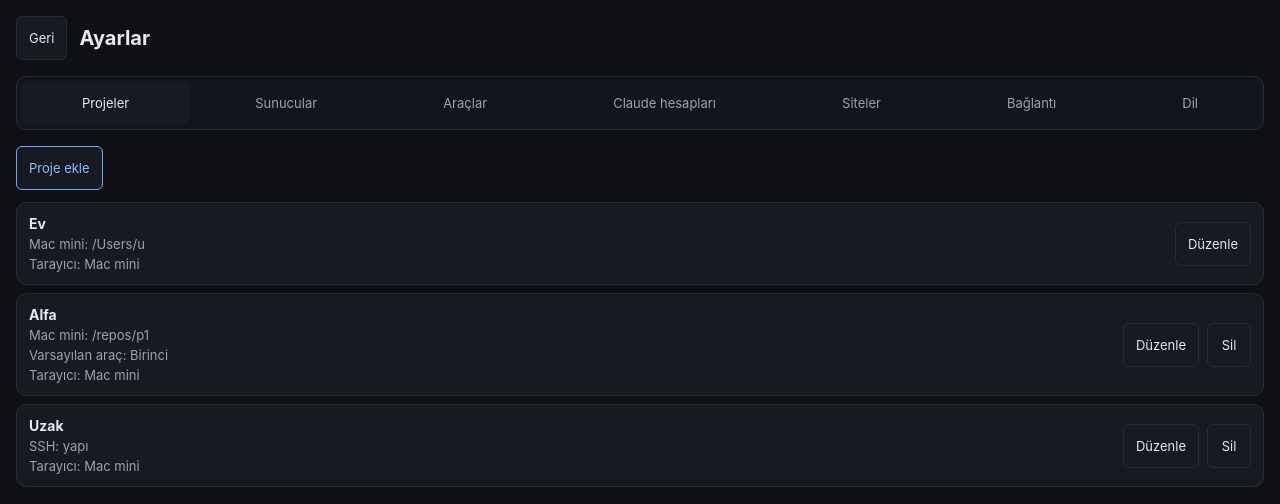
Test: Settings: Projeler › delete asks for confirmation and shows the engine reason verbatim
Click the button with aria-label "Sil: Alfa" at (1229, 344), box [1207,322,1251,366]
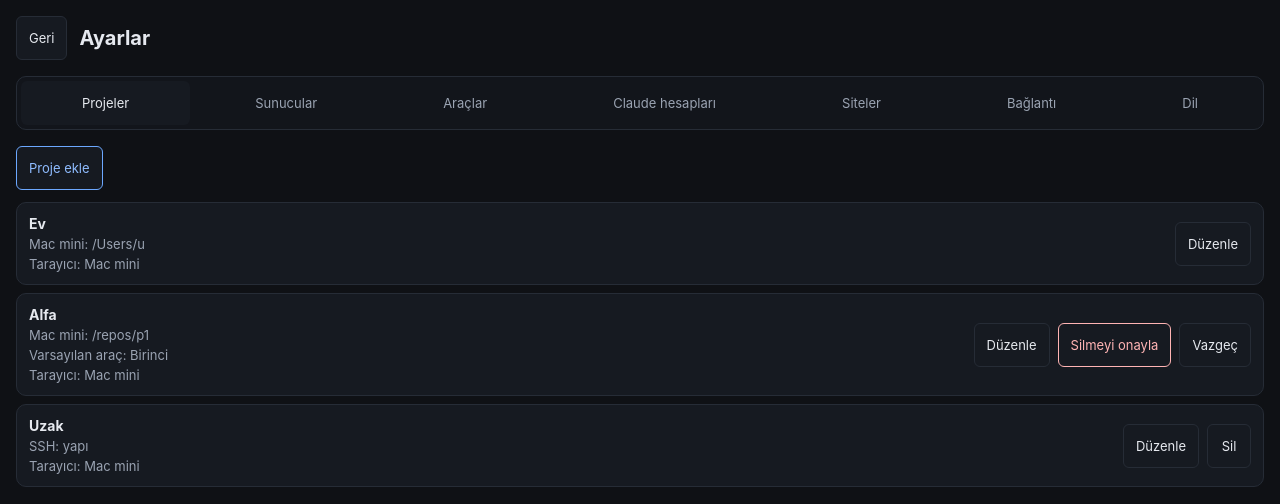
Click the button "Silmeyi onayla" at (1114, 344), box [1058,322,1171,366]
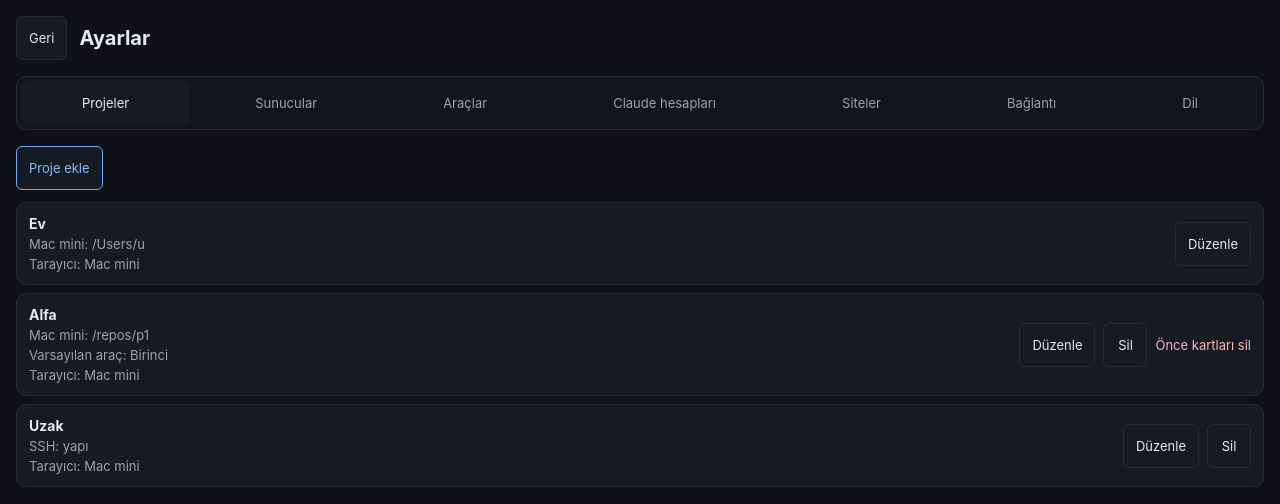
Result: the message reads "Önce kartları sil" at [1156,336,1251,352]
Click the button with aria-label "Sil: Alfa" at (1126, 344), box [1104,322,1148,366]
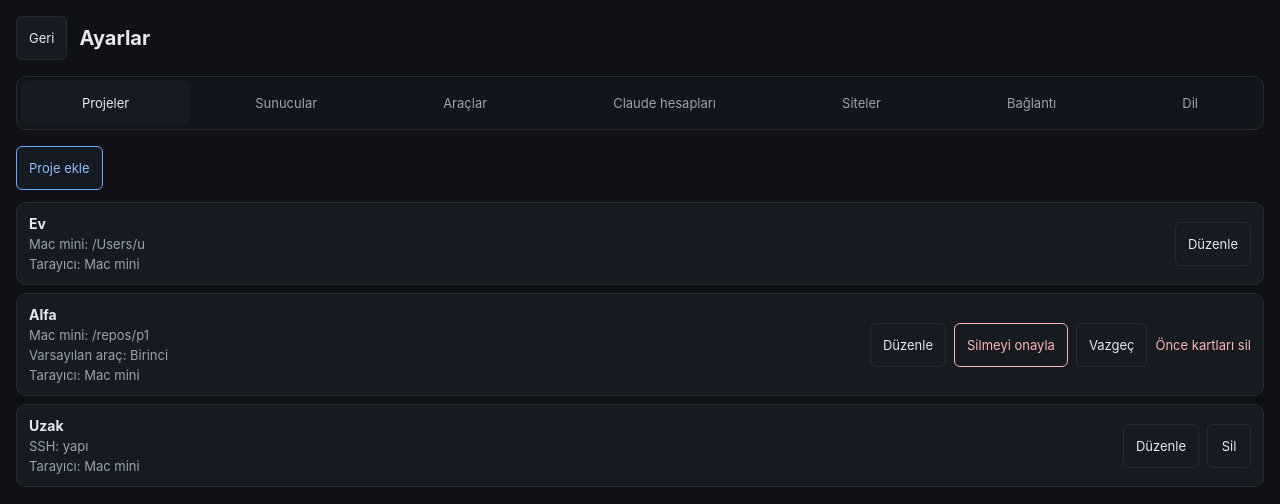
Click the button "Silmeyi onayla" at (1011, 344), box [954,322,1068,366]
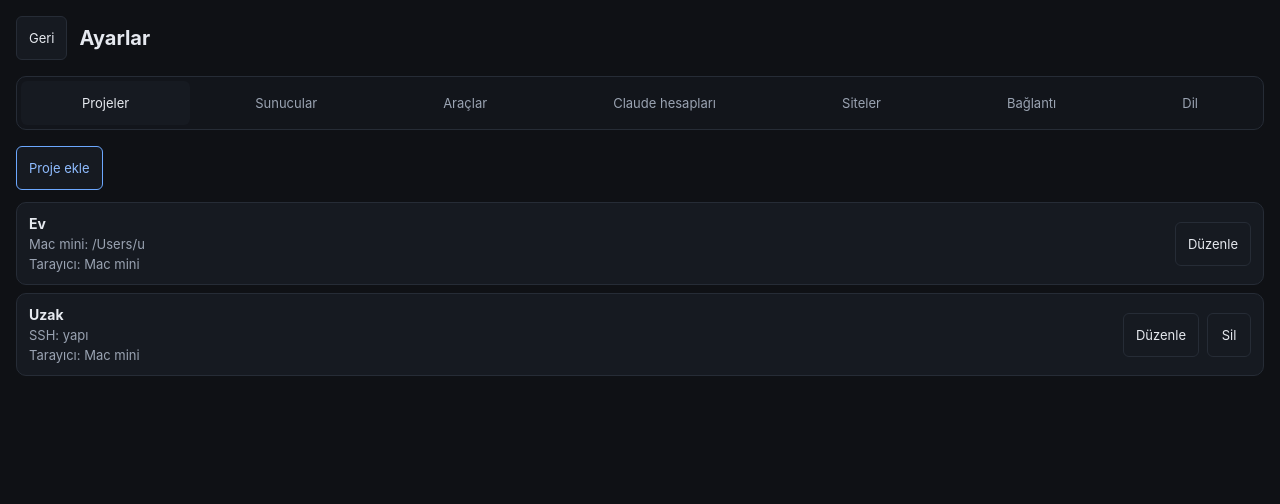
Result: the heading "Alfa" is gone
